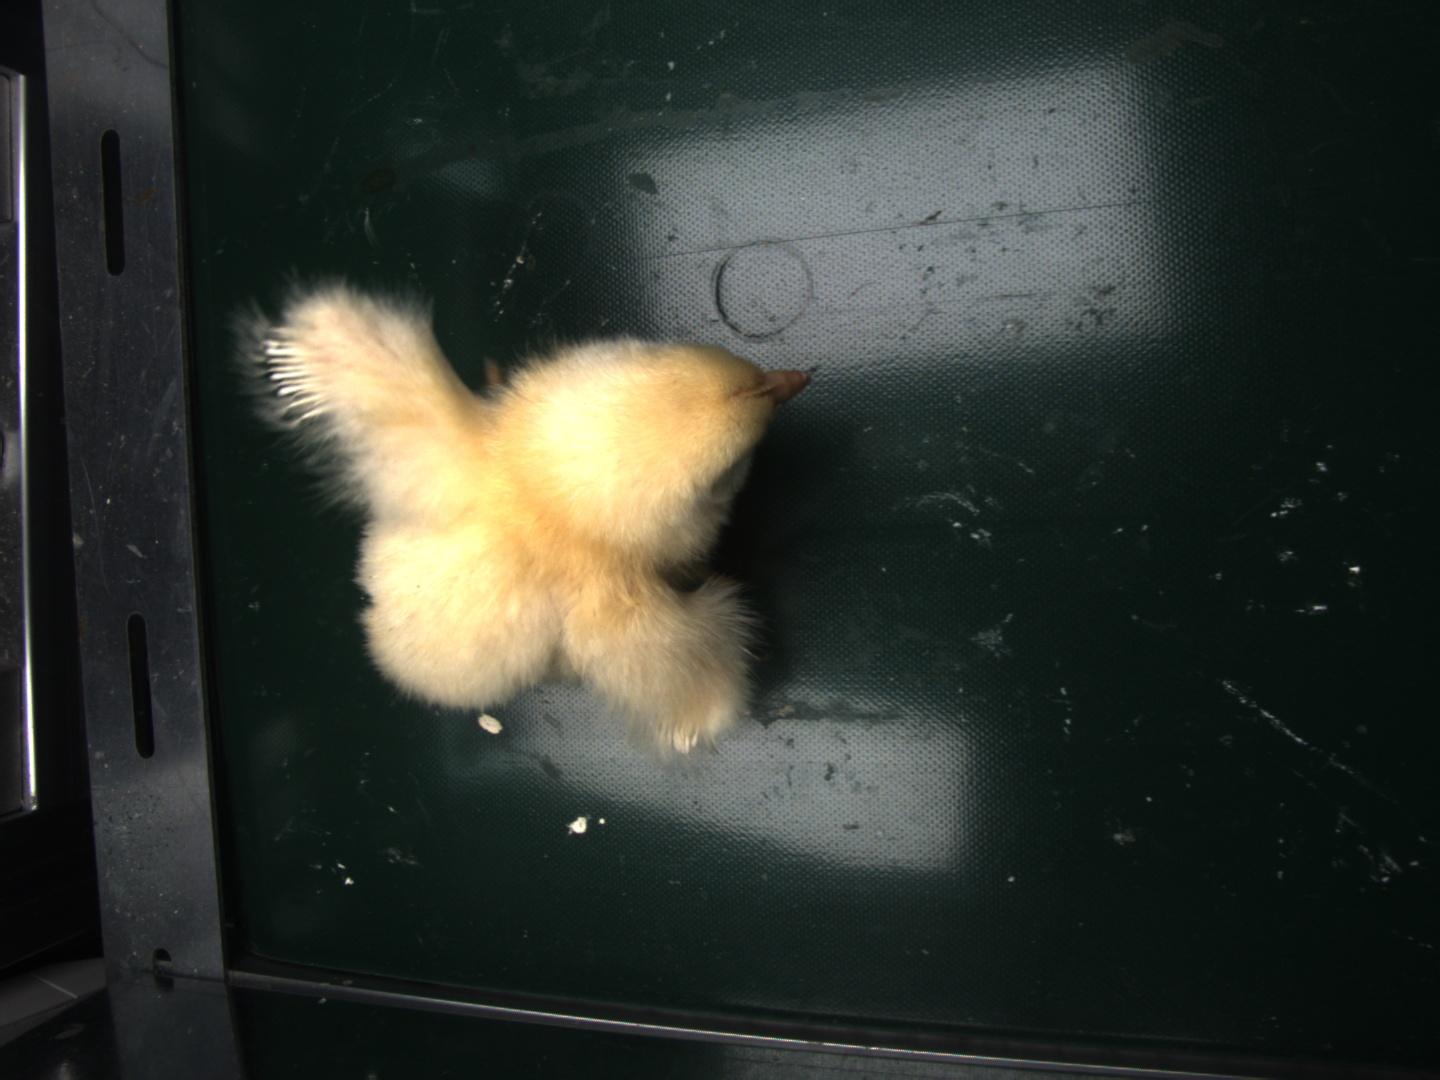male: (263, 334, 330, 423)
